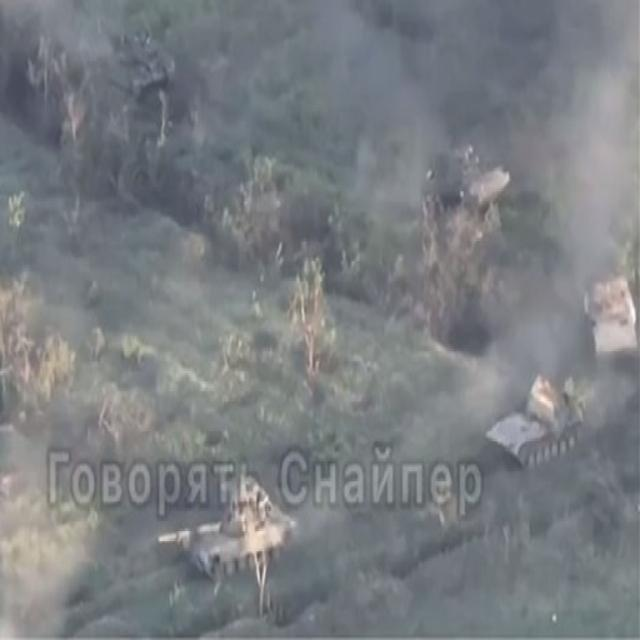APC-IFV: (487, 380, 585, 462), (424, 140, 515, 218), (578, 269, 638, 360)
TANK: (155, 489, 296, 580), (105, 29, 180, 104)
